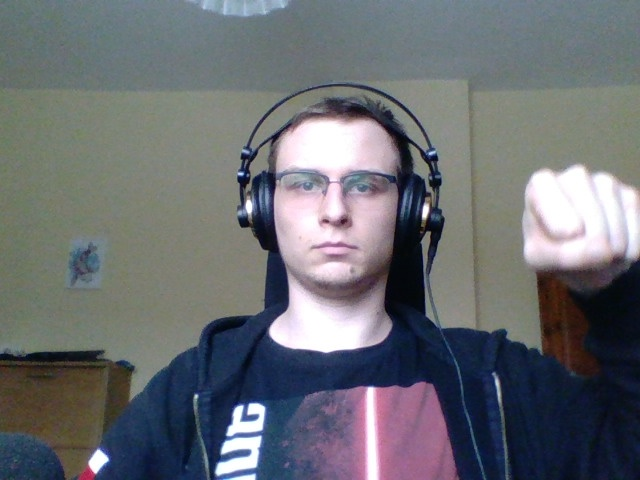yes: (517, 152, 639, 279)
